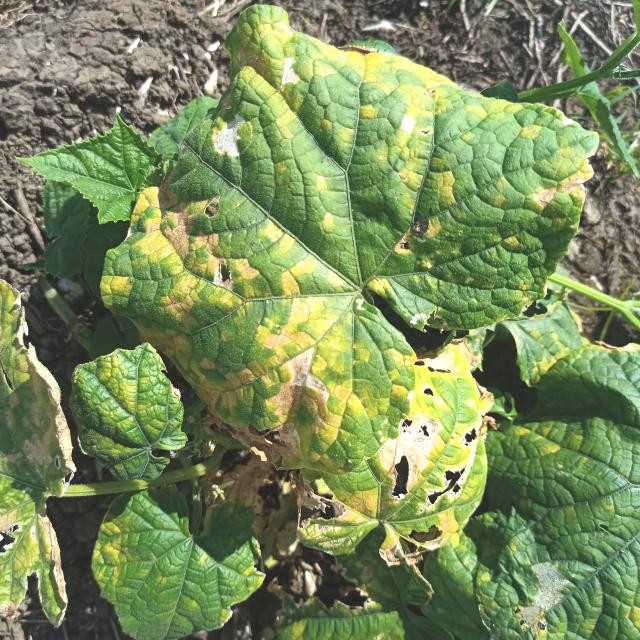disease_cucumber: (134, 22, 585, 532)
